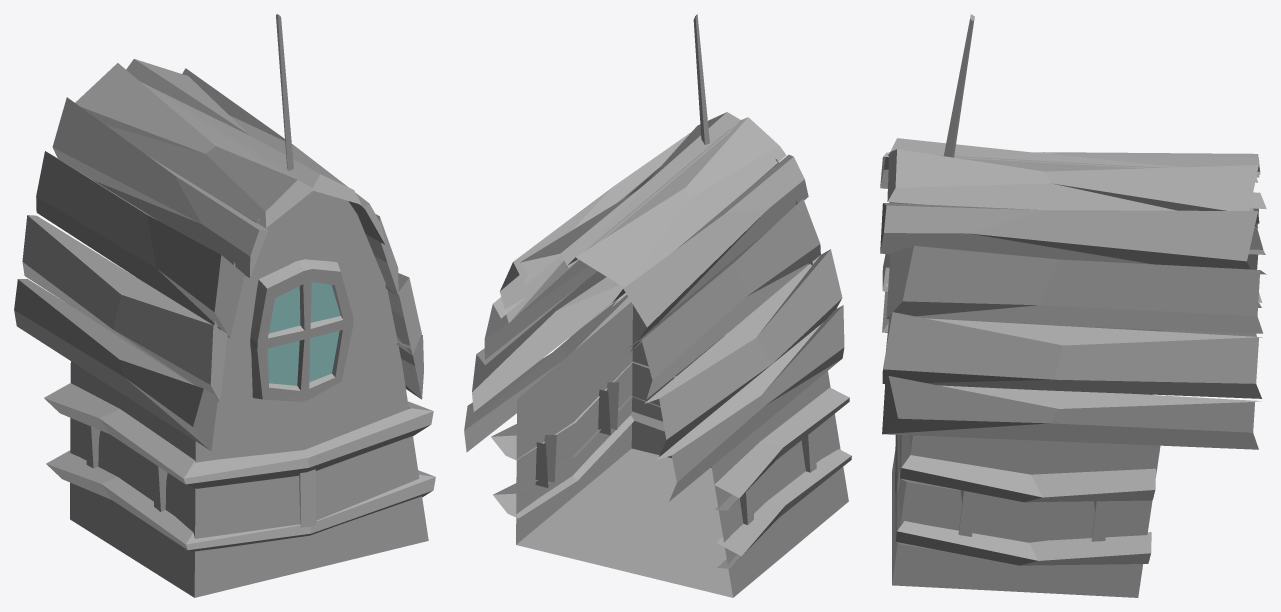
File: SM_L_Modular_Windowpopup_Round.fbx
3 views of the same model, side by side, from view 1: azimuth 30°, elevation 25°; view 2: azimuth 150°, elevation 25°; view 3: azimuth 270°, elevation 25° (orthographic). The views are drawn at different scales.
Visible parts, largest first — view 1: SM_Window_Popup_curve; view 2: SM_Window_Popup_curve; view 3: SM_Window_Popup_curve.
Part boxes in pixels (bbox=[...]): SM_Window_Popup_curve: bbox=[14, 14, 435, 597]; SM_Window_Popup_curve: bbox=[464, 14, 851, 597]; SM_Window_Popup_curve: bbox=[880, 14, 1266, 597].
Size of the model in its own units: 1.92 by 3.66 by 2.42.
